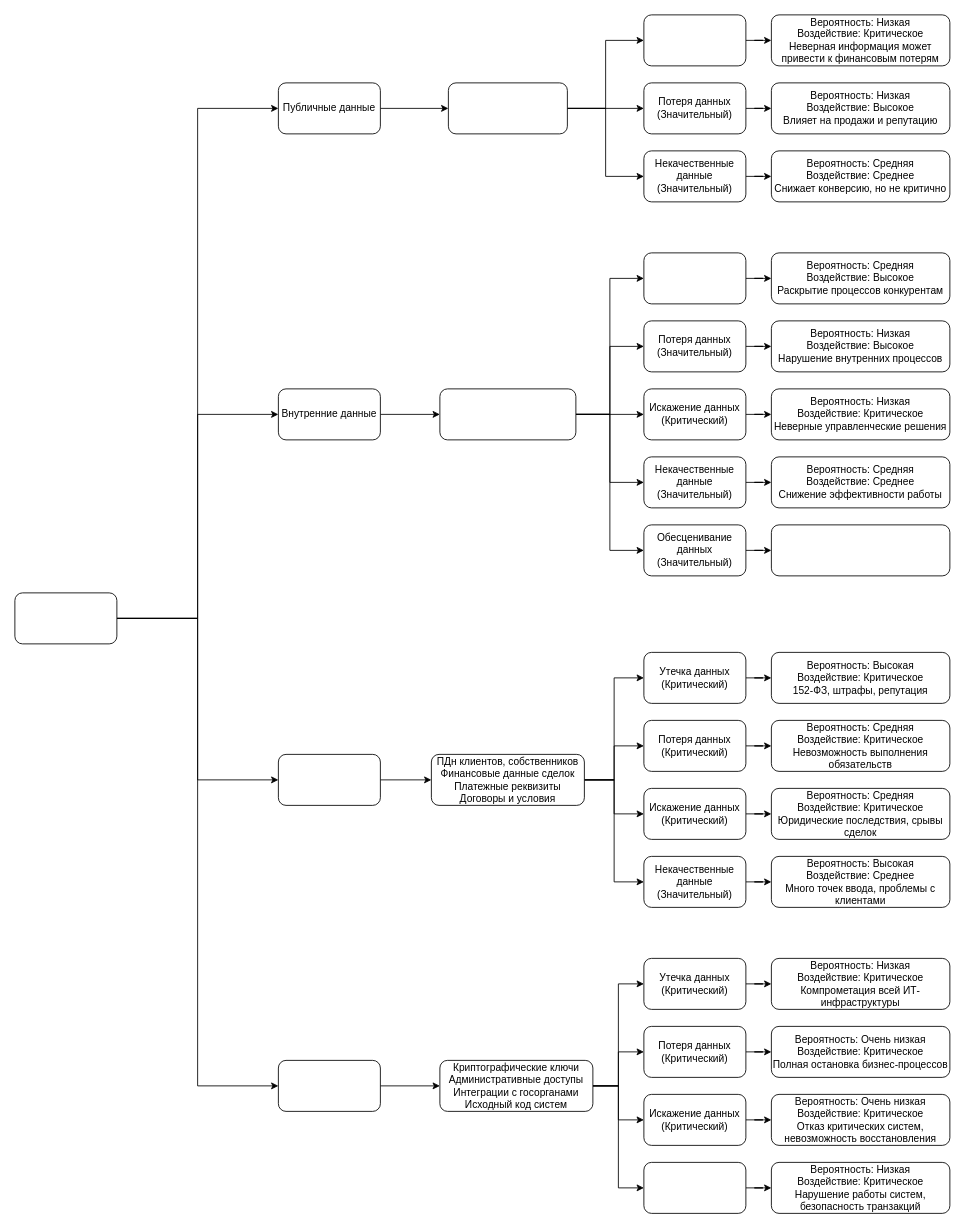
Some shapes in this 965 by 1228 pixel diagram are drawn without their labels. The box of each missing label's shape, as (x1, y1, x2, y2) in pixels:
Безопасность данных: (14, 592, 117, 644)
Вероятность: Высокая Воздействие: Среднее Потеря конкурентных преимуществ: (771, 524, 950, 576)
Внутренние регламенты Техническая документация Аналитические отчеты: (439, 388, 576, 440)
Информация о ЖК Информация об услугах Новости компании: (448, 82, 567, 134)
Искажение данных (Значительный): (643, 14, 746, 66)
Конфиденциальные данные: (278, 754, 380, 805)
Некачественные данные (Критический): (643, 1162, 746, 1213)
Секретные данные: (278, 1060, 380, 1111)
Утечка данных (Значительный): (643, 252, 746, 304)
